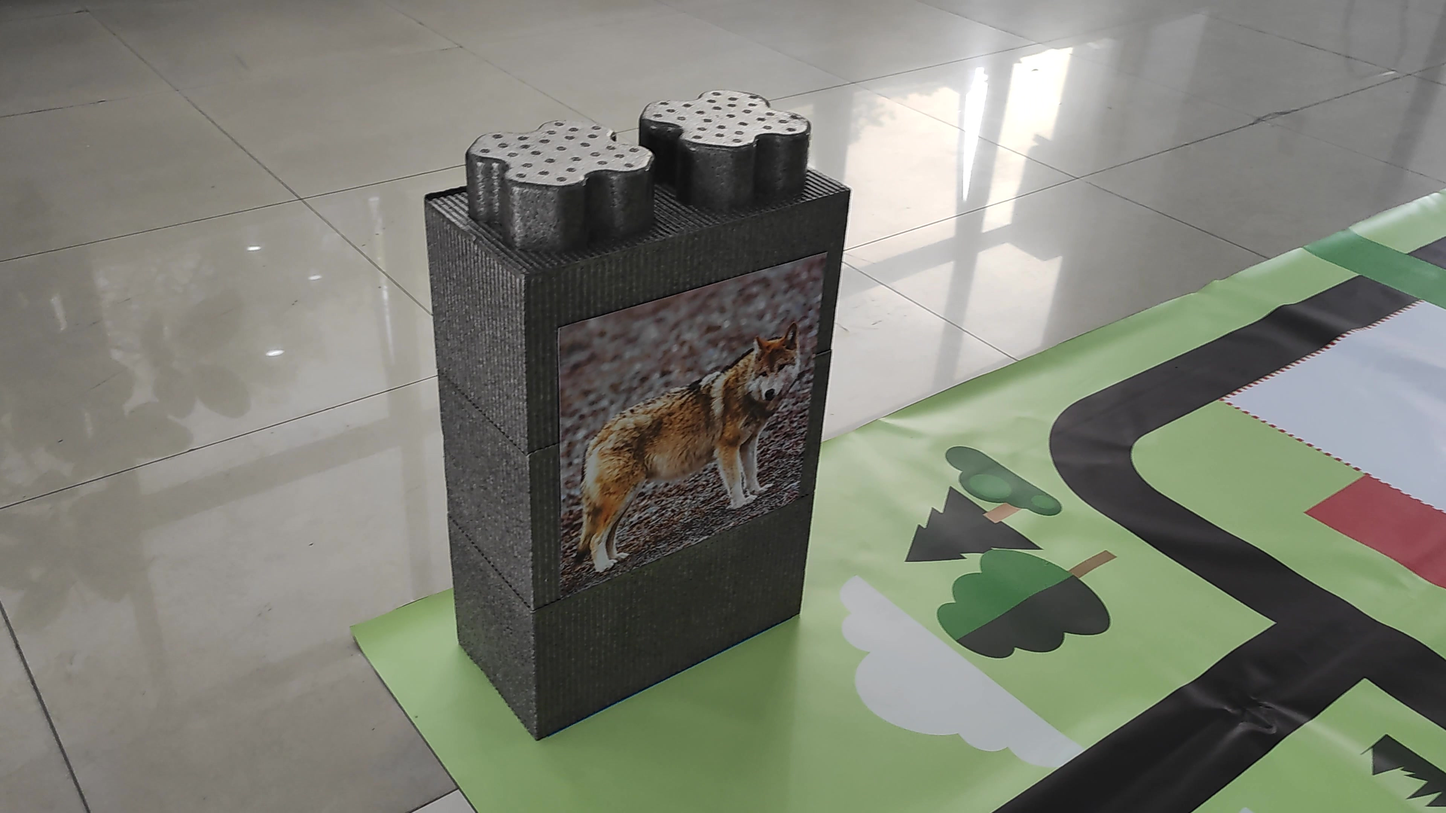wolf: (555, 301, 805, 568)
